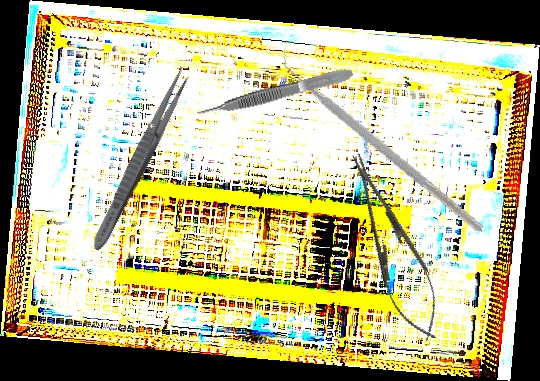Chopper: (263, 44, 504, 232)
Dressing Forceps: (86, 63, 195, 255)
Needle Holder: (334, 144, 454, 349)
Tissue Forceps: (195, 65, 355, 121)
